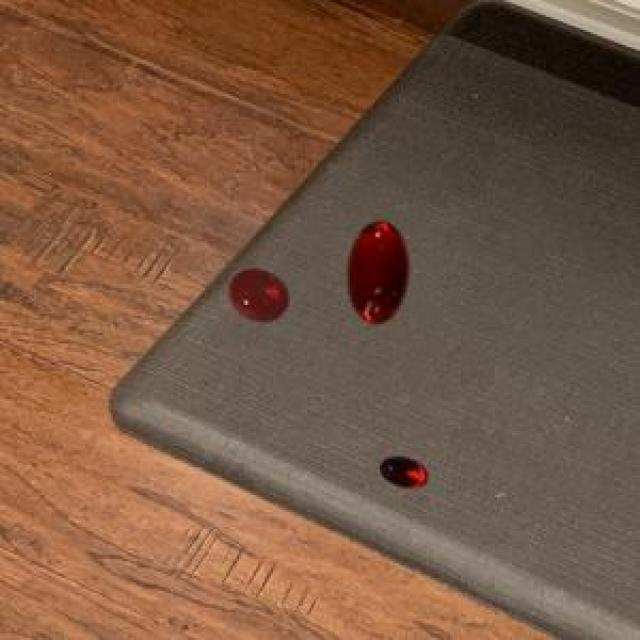Medicol: (337, 209, 416, 342), (218, 260, 294, 331), (371, 443, 436, 493)
